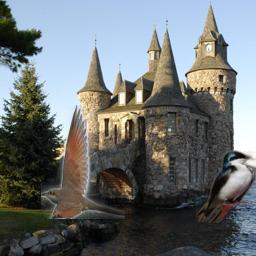Cuckoo: (41, 105, 125, 219)
Swallow: (196, 150, 256, 223)
